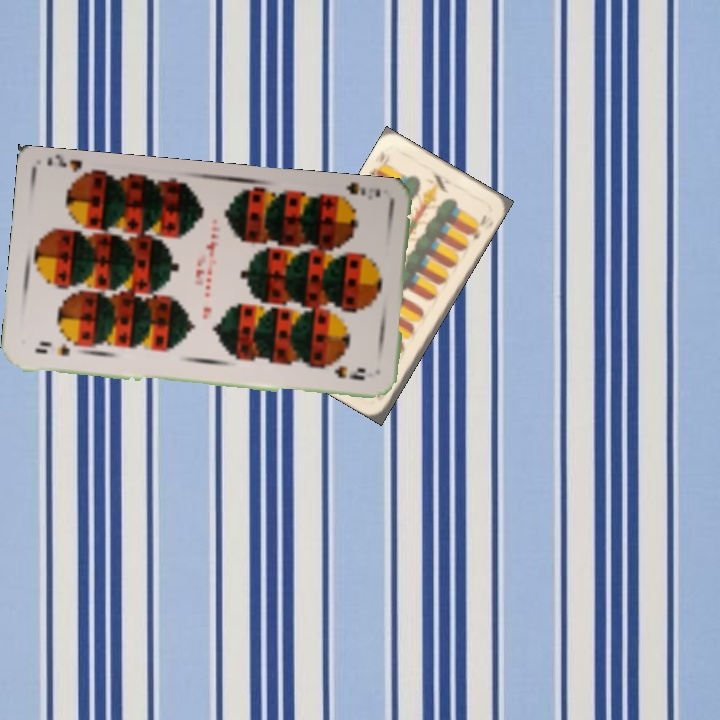E10: (365, 147, 388, 182)
S9: (330, 180, 383, 208), (30, 340, 73, 359)
